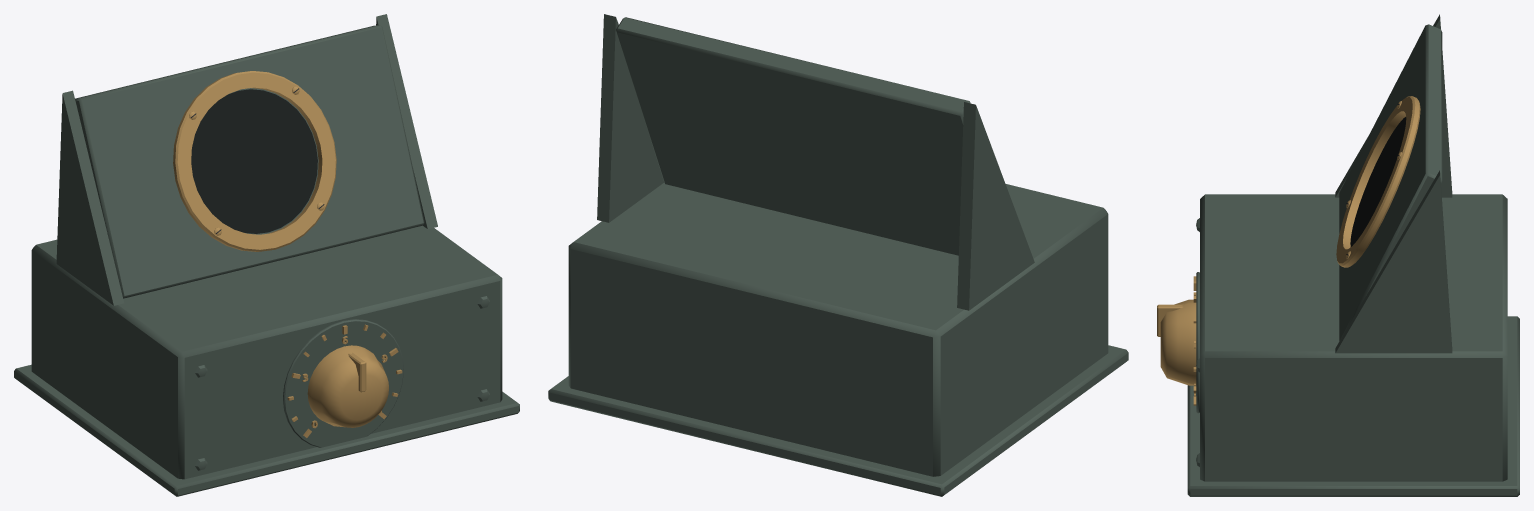
File: keeper_knob.glb
3 renders of one model, left to right at view 1: azimuth 30°, elevation 25°; view 2: azimuth 150°, elevation 25°; view 3: azimuth 270°, elevation 25°, orthographic. The views are drawn at different scales.
Visible parts, largest first — view 1: keeper_body, osc_screen, IA_keeper; view 2: keeper_body; view 3: keeper_body, IA_keeper, osc_screen.
Boxes of the visible parts, x1,y1,x2,y2 form: keeper_body: [14, 14, 519, 496]; osc_screen: [191, 89, 317, 233]; IA_keeper: [307, 345, 388, 427]; keeper_body: [548, 14, 1128, 496]; keeper_body: [1187, 14, 1519, 496]; IA_keeper: [1157, 299, 1196, 385]; osc_screen: [1350, 117, 1406, 246].
Size of the model in its own units: 0.66 by 0.57 by 0.59.
